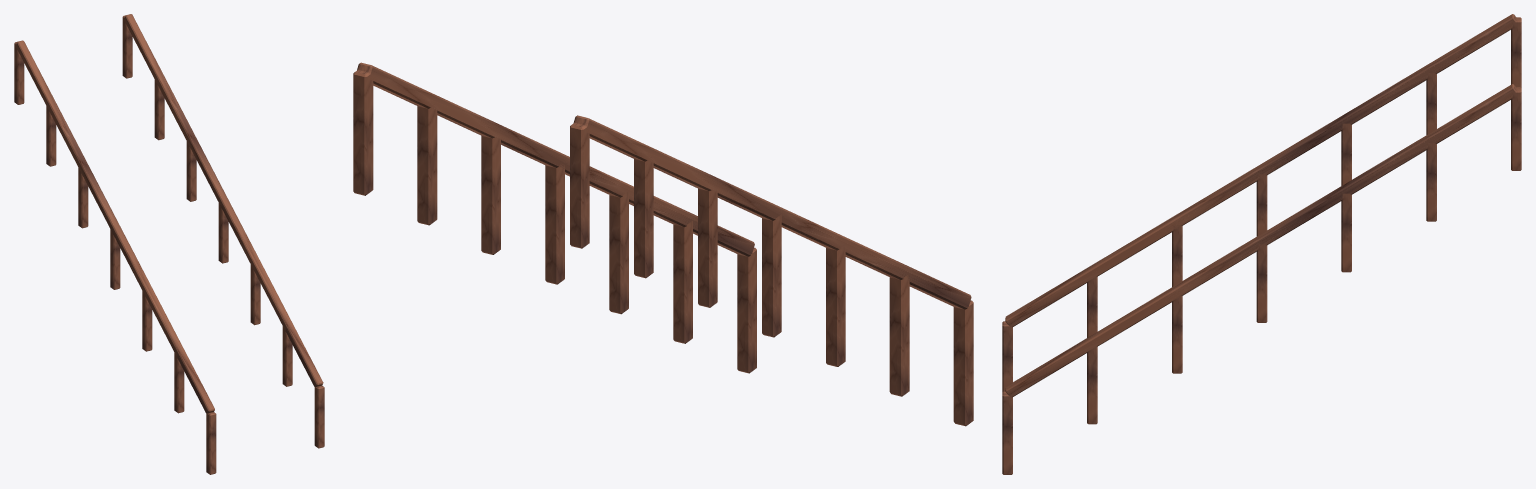
File: Stair_Rails.glb
3 renders of one model, left to right at view 1: azimuth 30°, elevation 25°; view 2: azimuth 150°, elevation 25°; view 3: azimuth 270°, elevation 25°, orthographic. The views are drawn at different scales.
Parts seen in each view (by area): view 1: Stair_Rails__立方体.007, Stair_Rails__立方体.015, Stair_Rails__立方体, Stair_Rails__立方体.008, Stair_Rails__立方体.014, Stair_Rails__立方体.009, Stair_Rails__立方体.012, Stair_Rails__立方体.010, Stair_Rails__立方体.011, Stair_Rails__立方体.006, Stair_Rails__立方体.001, Stair_Rails__立方体.002 (+4 smaller); view 2: Stair_Rails__立方体.007, Stair_Rails__立方体.015, Stair_Rails__立方体.014, Stair_Rails__立方体, Stair_Rails__立方体.001, Stair_Rails__立方体.006, Stair_Rails__立方体.013, Stair_Rails__立方体.008, Stair_Rails__立方体.003, Stair_Rails__立方体.010, Stair_Rails__立方体.009, Stair_Rails__立方体.002 (+4 smaller); view 3: Stair_Rails__立方体.015, Stair_Rails__立方体.007, Stair_Rails__立方体.011, Stair_Rails__立方体.008, Stair_Rails__立方体.014, Stair_Rails__立方体.012, Stair_Rails__立方体.013, Stair_Rails__立方体.009, Stair_Rails__立方体.010, Stair_Rails__立方体.006, Stair_Rails__立方体.003, Stair_Rails__立方体 (+4 smaller).
Part boxes in pixels (box(x1,y1,x2,y2)): Stair_Rails__立方体.007: box(15, 40, 214, 413); Stair_Rails__立方体.015: box(124, 14, 323, 386); Stair_Rails__立方体: box(206, 412, 216, 474); Stair_Rails__立方体.008: box(314, 385, 324, 448); Stair_Rails__立方体.014: box(122, 15, 132, 78); Stair_Rails__立方体.009: box(282, 325, 292, 386); Stair_Rails__立方体.012: box(186, 140, 196, 201); Stair_Rails__立方体.010: box(250, 264, 260, 325); Stair_Rails__立方体.011: box(218, 202, 228, 263); Stair_Rails__立方体.006: box(14, 41, 24, 104); Stair_Rails__立方体.001: box(174, 352, 184, 413); Stair_Rails__立方体.002: box(142, 290, 152, 351); Stair_Rails__立方体.007: box(573, 115, 971, 309); Stair_Rails__立方体.015: box(357, 62, 754, 256); Stair_Rails__立方体.014: box(353, 70, 373, 195); Stair_Rails__立方体: box(953, 300, 973, 426); Stair_Rails__立方体.001: box(889, 275, 909, 396); Stair_Rails__立方体.006: box(570, 122, 589, 248); Stair_Rails__立方体.013: box(417, 106, 437, 225); Stair_Rails__立方体.008: box(737, 247, 756, 373); Stair_Rails__立方体.003: box(762, 214, 781, 337); Stair_Rails__立方体.010: box(609, 191, 628, 314); Stair_Rails__立方体.009: box(673, 221, 692, 343); Stair_Rails__立方体.002: box(826, 245, 845, 366); Stair_Rails__立方体.015: box(1005, 84, 1516, 397); Stair_Rails__立方体.007: box(1005, 14, 1516, 327); Stair_Rails__立方体.011: box(1256, 244, 1267, 322); Stair_Rails__立方体.008: box(1002, 391, 1012, 474); Stair_Rails__立方体.014: box(1511, 87, 1521, 170); Stair_Rails__立方体.012: box(1341, 193, 1351, 272); Stair_Rails__立方体.013: box(1426, 143, 1436, 221); Stair_Rails__立方体.009: box(1087, 346, 1097, 424); Stair_Rails__立方体.010: box(1172, 296, 1182, 373); Stair_Rails__立方体.006: box(1511, 17, 1521, 87); Stair_Rails__立方体.003: box(1256, 174, 1267, 236); Stair_Rails__立方体: box(1002, 321, 1012, 391).
Size of the model in its own units: 1.83 by 4.44 by 5.39.
1 material, 1 textured.
